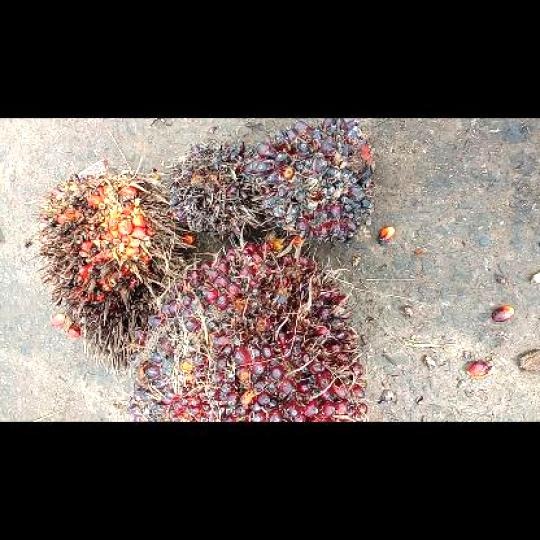masak: (129, 246, 372, 420)
terlalu masak: (26, 156, 195, 376)
